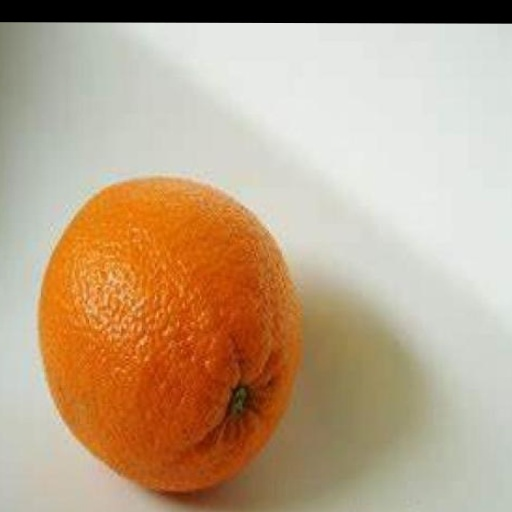fruit: (40, 178, 301, 491)
